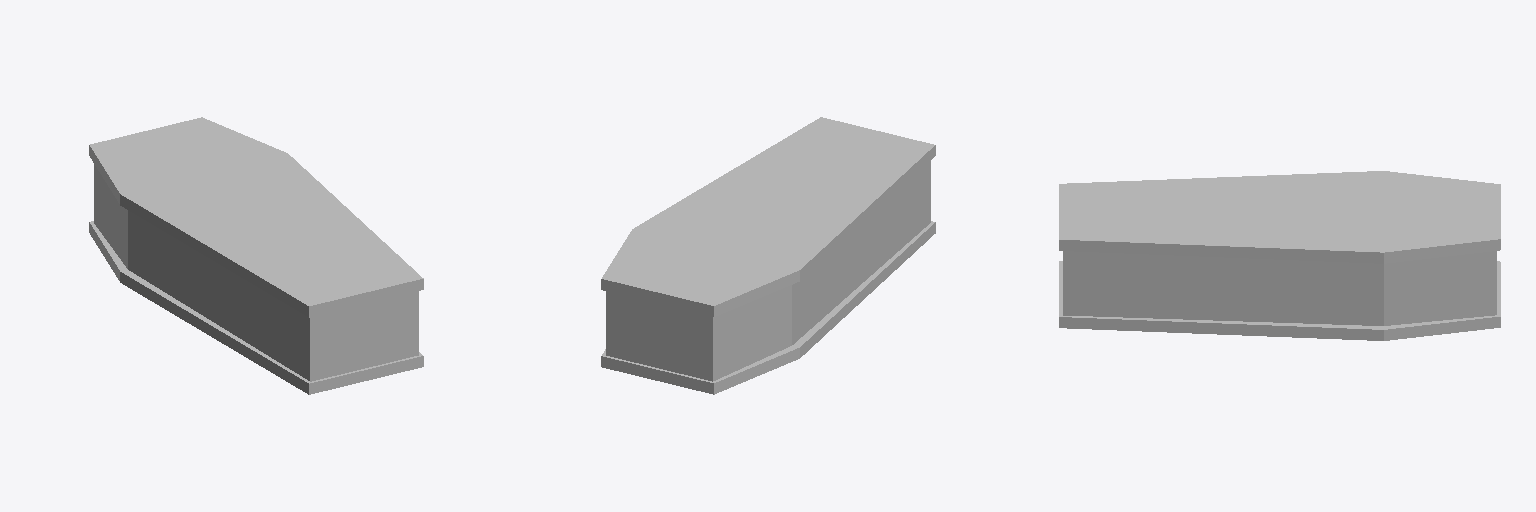
The model's file is Coffin_Closed.obj.
3 renders of one model, left to right at view 1: azimuth 30°, elevation 25°; view 2: azimuth 150°, elevation 25°; view 3: azimuth 270°, elevation 25°, orthographic.
Visible parts, largest first — view 1: Export_Coffin_Closed; view 2: Export_Coffin_Closed; view 3: Export_Coffin_Closed.
Boxes of the visible parts, x1=… form: Export_Coffin_Closed: x1=89, y1=117, x2=423, y2=394; Export_Coffin_Closed: x1=601, y1=117, x2=935, y2=394; Export_Coffin_Closed: x1=1059, y1=171, x2=1500, y2=340.
Size of the model in its own units: 0.919 by 0.4636 by 2.1.